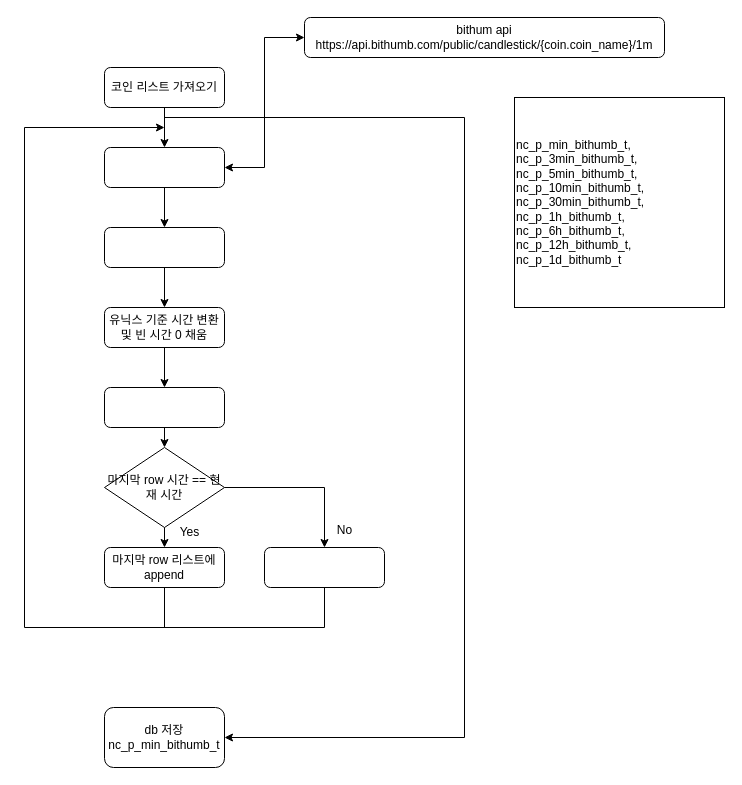
The diagram is 742 pixels wide and 785 high, and some of its shapes have lost their labels. The shapes that lost their labels are listed below. From the top down, each one's box as (x1, y1, x2, y2) in pixels, then its label:
(104, 146, 224, 188): 코인 한개 캔들 데이터 bithumb api 요청
(104, 226, 224, 268): 수신 데이터 pandas dataframe 변환
(104, 386, 224, 428): 마지막 300 row csv 파일 저장
(264, 546, 384, 588): 현재시간, 코인이름 빼고 zerofill 데이터 리스트에 append
